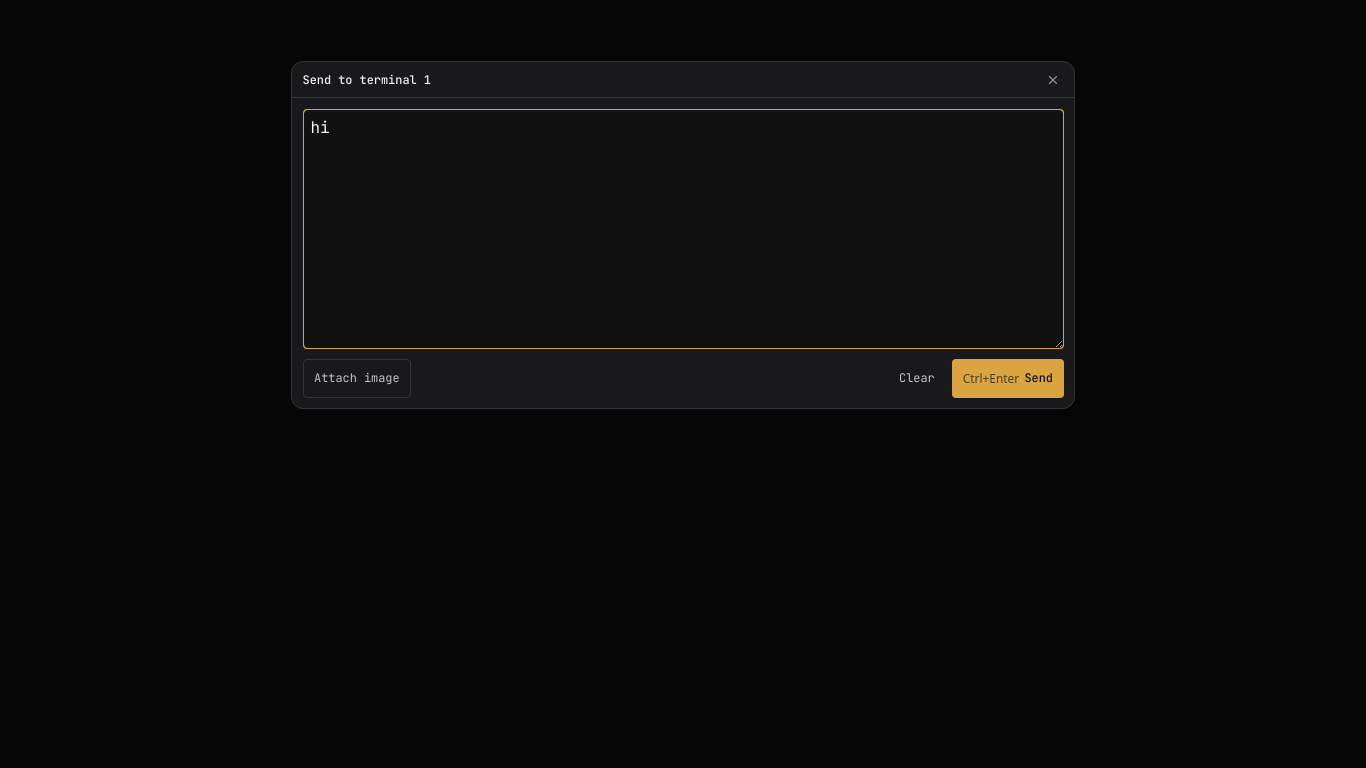
it: ComposeDialog › a_failed_send_says_nothing_went_out
The width and height of the screenshot is (1366, 768).
Click the button "Ctrl+Enter Send" at (1008, 379), box top-left (952, 359), bottom-right (1064, 398)
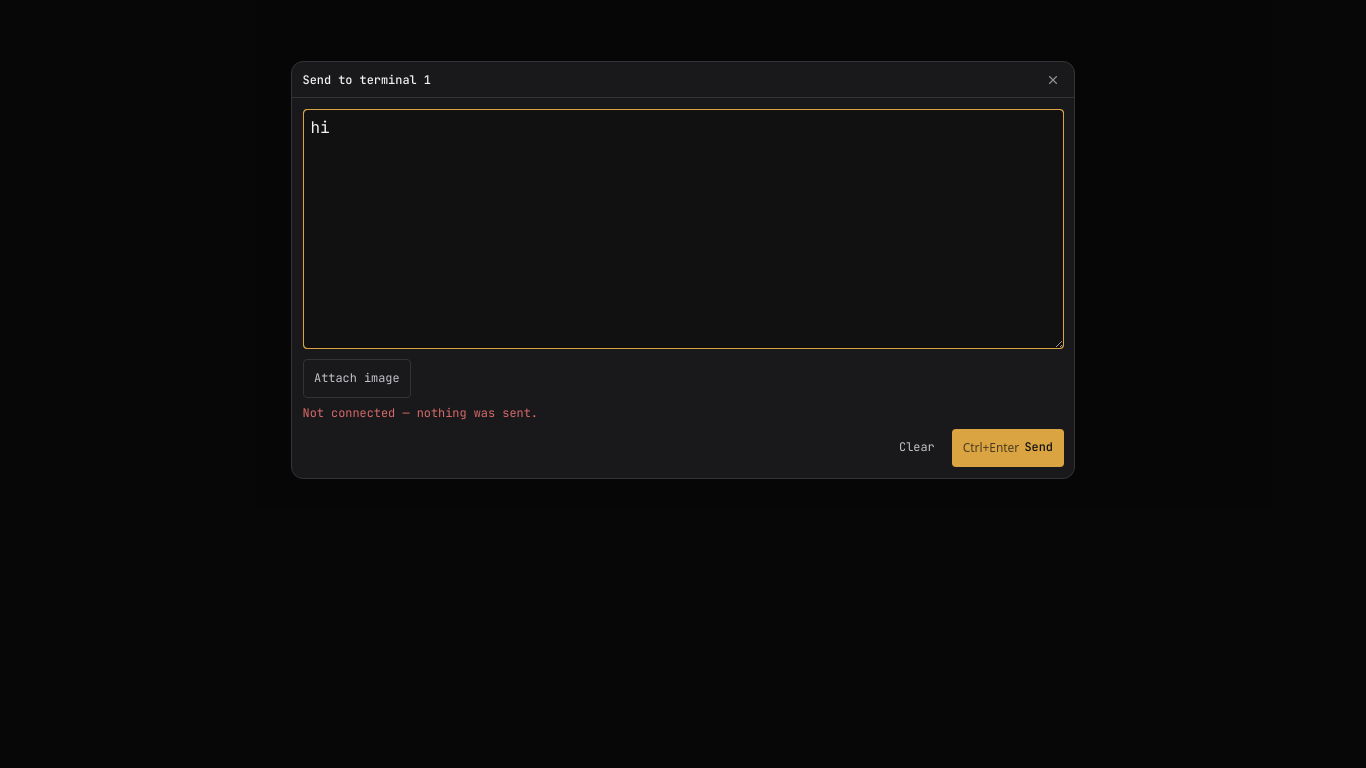
Expected: the message shows "nothing was sent", top-left (302, 405), bottom-right (538, 421)
